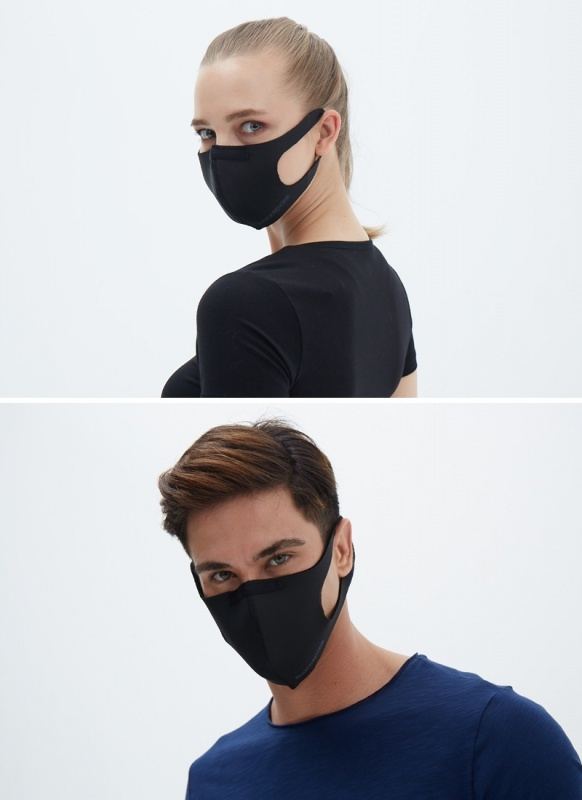maske: (187, 551, 352, 686), (191, 111, 335, 249)
